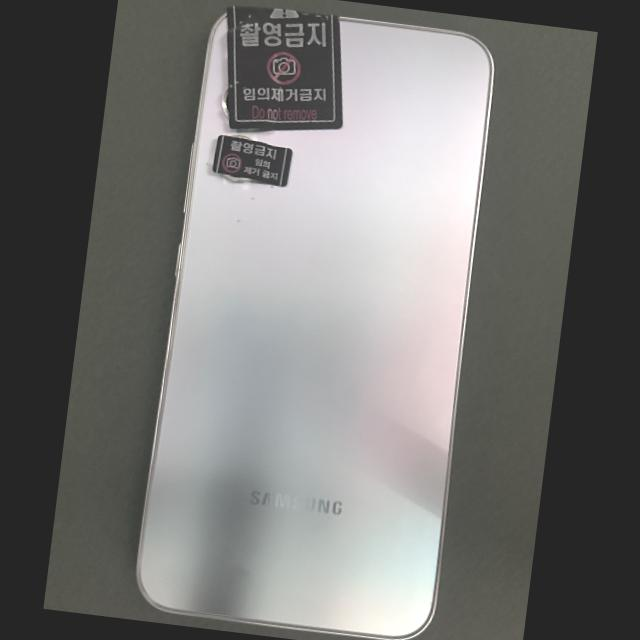lens: (222, 88, 229, 117), (223, 174, 249, 181)
phone: (138, 7, 493, 639)
sticker: (226, 6, 342, 130), (212, 134, 292, 187)
